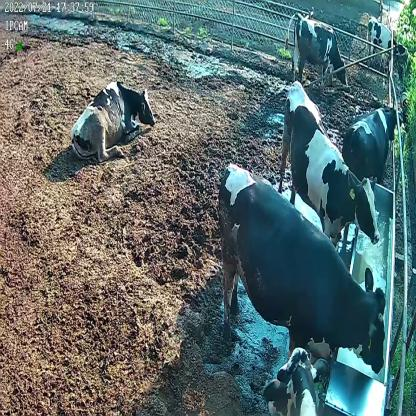cow: (218, 158, 387, 380), (279, 78, 382, 257), (68, 78, 157, 158), (285, 9, 349, 90), (346, 103, 397, 183), (366, 16, 398, 62)
